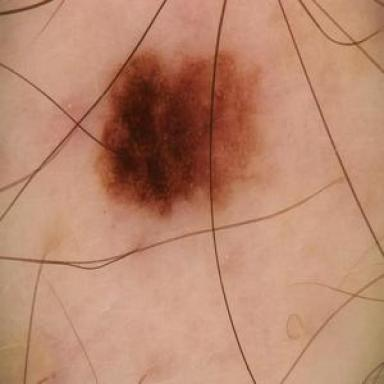Melanoma: (99, 48, 260, 215)
